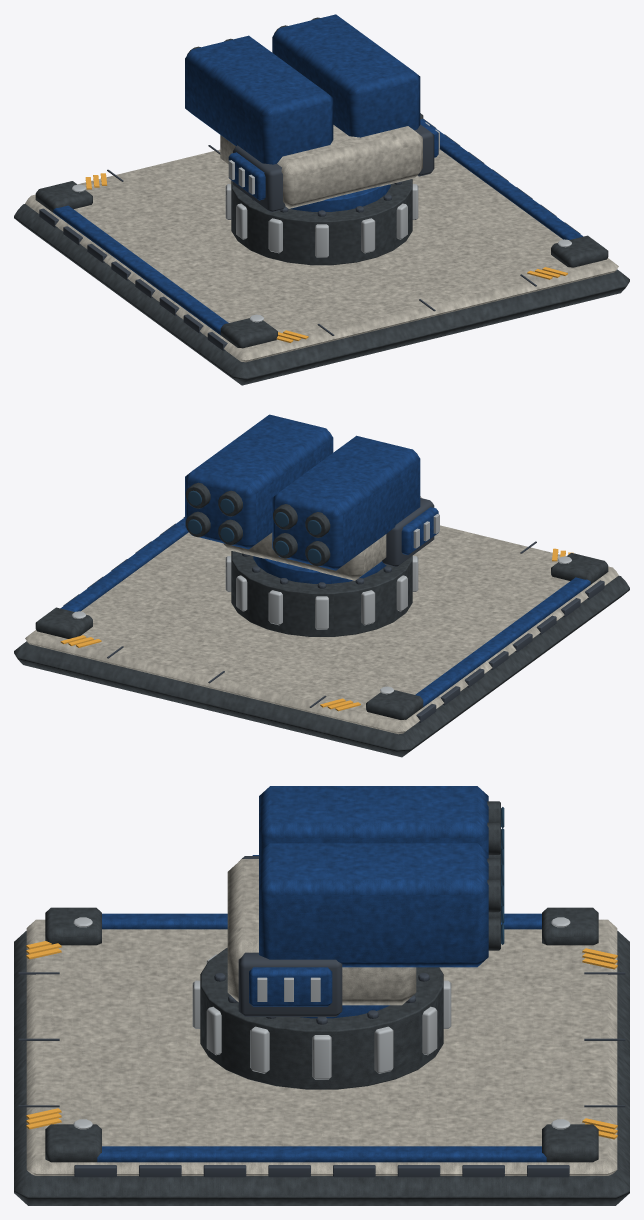
Rendered from solis_rampe_de_roquettes.gltf.
3 renders of one model, top to bottom at view 1: azimuth 30°, elevation 25°; view 2: azimuth 150°, elevation 25°; view 3: azimuth 270°, elevation 25°, orthographic. The views are drawn at different scales.
Parts seen in each view (by area): view 1: Building.012_Geometry, GunPitch.002_Geometry, TurretYaw.002_Geometry; view 2: Building.012_Geometry, GunPitch.002_Geometry, TurretYaw.002_Geometry; view 3: Building.012_Geometry, GunPitch.002_Geometry, TurretYaw.002_Geometry.
Part boxes in pixels (x1,y1,x2,y2): Building.012_Geometry: (14, 113, 629, 385); GunPitch.002_Geometry: (185, 14, 420, 164); TurretYaw.002_Geometry: (220, 119, 439, 212); Building.012_Geometry: (14, 517, 629, 757); GunPitch.002_Geometry: (185, 414, 420, 570); TurretYaw.002_Geometry: (223, 496, 439, 580); Building.012_Geometry: (14, 907, 629, 1205); GunPitch.002_Geometry: (259, 786, 504, 967); TurretYaw.002_Geometry: (227, 855, 416, 1016).
Bounding box in the file's own units: 3.92 × 1.75 × 3.92.
Materials: 8 (3 with a texture image).
